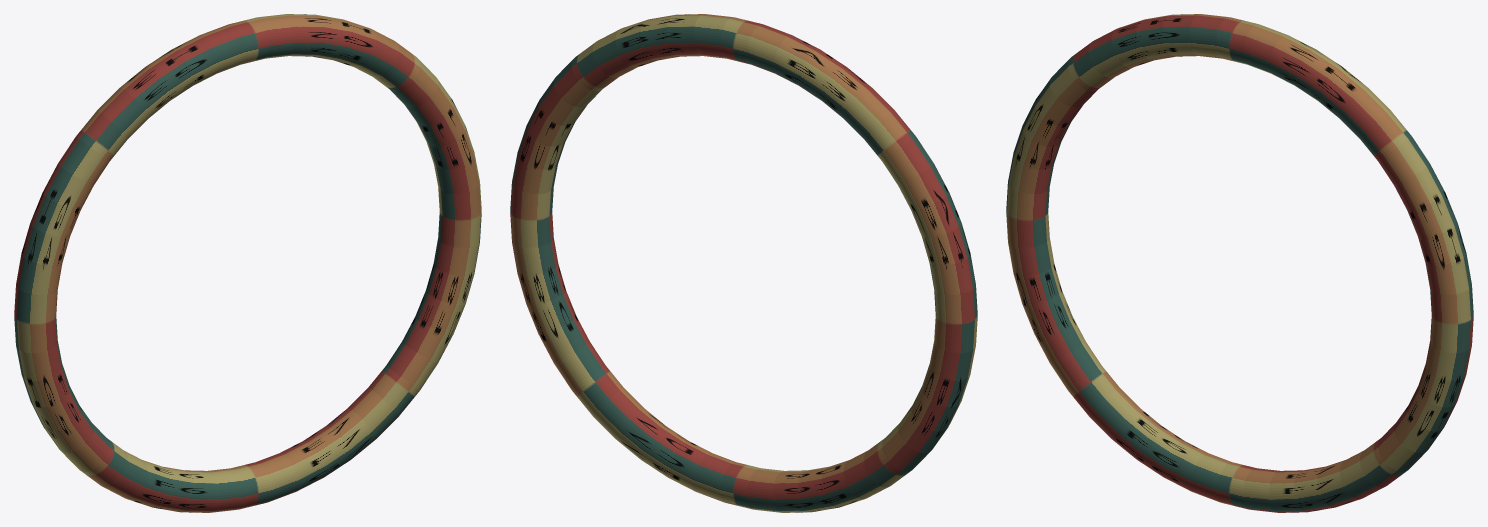
File: texture_torus_R20_r0.glb
3 renders of one model, left to right at view 1: azimuth 30°, elevation 25°; view 2: azimuth 150°, elevation 25°; view 3: azimuth 330°, elevation 25°, orthographic.
Parts seen in each view (by area): view 1: world; view 2: world; view 3: world.
Boxes of the visible parts, box(x1,y1,x2,y2) form: world: box(14, 14, 481, 512); world: box(510, 14, 977, 512); world: box(1006, 14, 1473, 512).
Size of the model in its own units: 25.33 by 25.28 by 2.
1 material, 1 textured.
